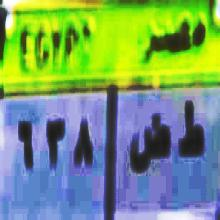3: (46, 116, 68, 177)
6: (13, 114, 36, 179)
8: (75, 116, 93, 177)
Taa: (177, 103, 204, 160)
daad: (128, 108, 170, 176)
